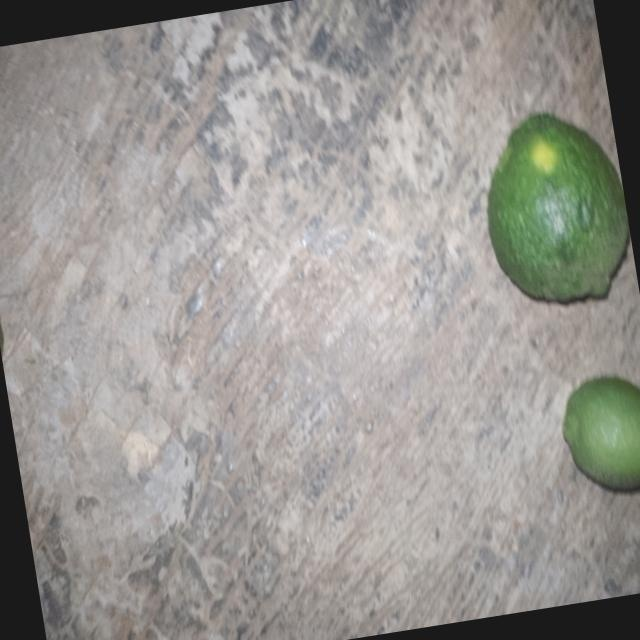agrume: (468, 91, 640, 324), (550, 343, 640, 518)
